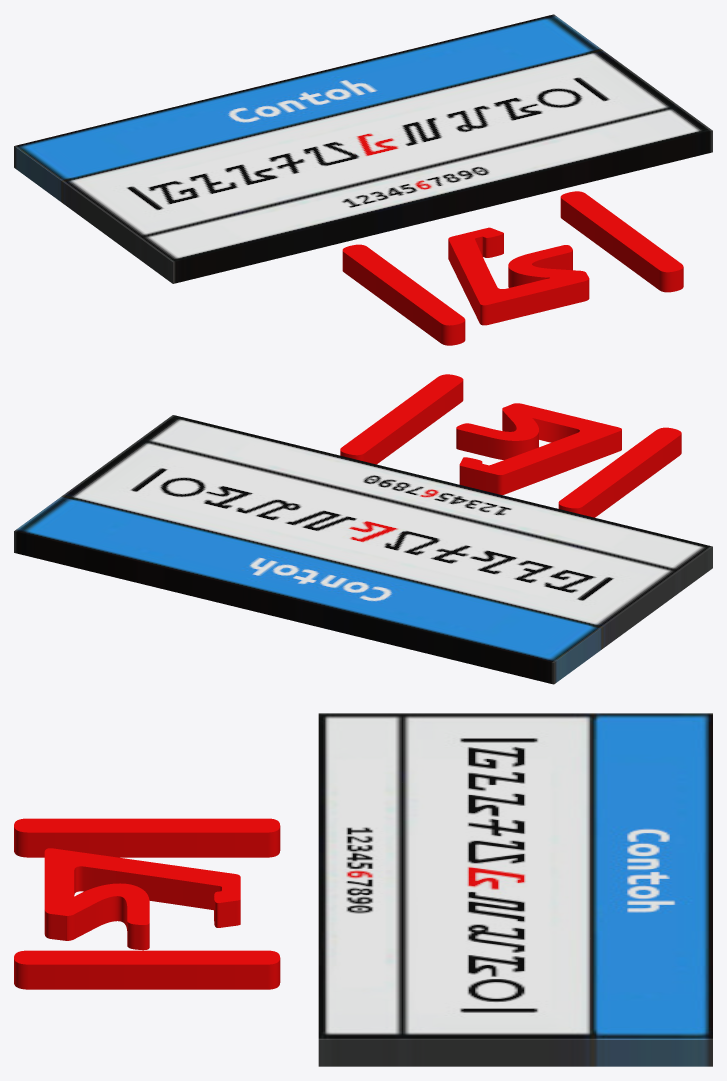
The picture shows the model from 3 angles, top to bottom: view 1: azimuth 30°, elevation 25°; view 2: azimuth 150°, elevation 25°; view 3: azimuth 270°, elevation 25°; orthographic projection. The views are drawn at different scales.
Visible parts, largest first — view 1: contoh-6-Angka, Text; view 2: contoh-6-Angka, Text; view 3: contoh-6-Angka, Text.
Part boxes in pixels (left/top/right/bottom): contoh-6-Angka: left=14, top=14, right=712, bottom=283; Text: left=342, top=191, right=683, bottom=345; contoh-6-Angka: left=14, top=415, right=712, bottom=684; Text: left=340, top=374, right=681, bottom=517; contoh-6-Angka: left=318, top=713, right=712, bottom=1066; Text: left=14, top=818, right=280, bottom=989.
Size of the model in its own units: 1.96 by 0.11 by 1.77.
Materials: 2 (1 with a texture image).
